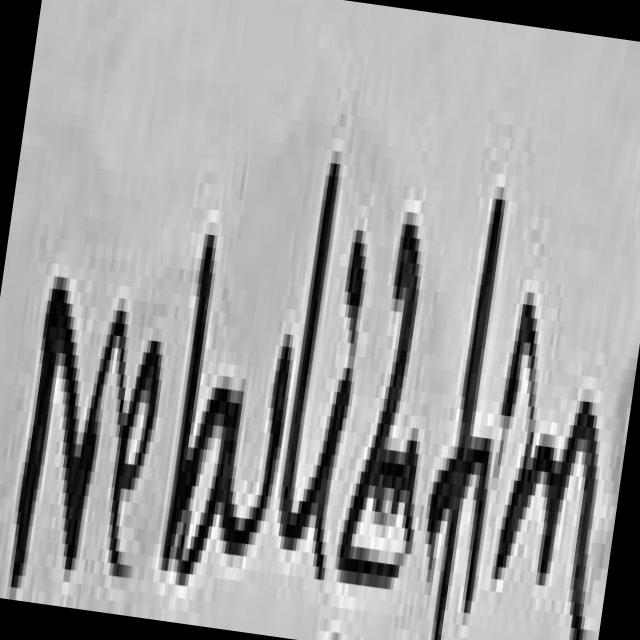N: (12, 291, 117, 582)
a: (391, 439, 419, 554)
b: (162, 235, 232, 585)
e: (110, 341, 161, 576)
i: (302, 368, 352, 580), (466, 439, 492, 613), (505, 305, 534, 420), (349, 231, 366, 334)
l: (281, 164, 341, 549)
n: (541, 402, 599, 640)
t: (429, 199, 506, 640)
u: (223, 348, 293, 554)
z: (341, 225, 420, 583)
